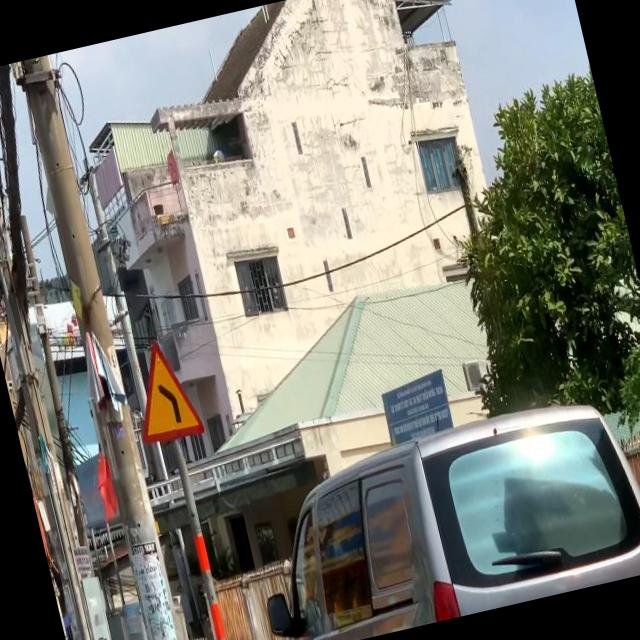W-201a: (125, 336, 206, 448)
